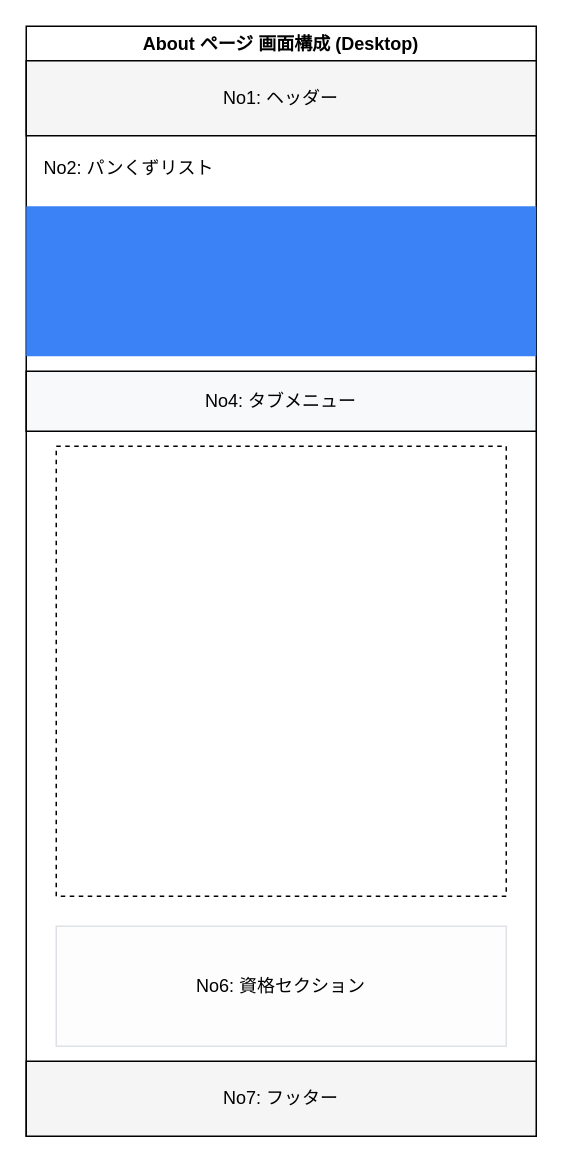
Image size: 563x1163. Some labels were removed from this diagram. The shapes that lost their labels are listed below. From the top down, each one's centre as x and y in pixels, then its label:
the point at 281,281: No3: ヒーローエリア (Title)
the point at 280,670: No5: タイムライン (コンテンツ)
